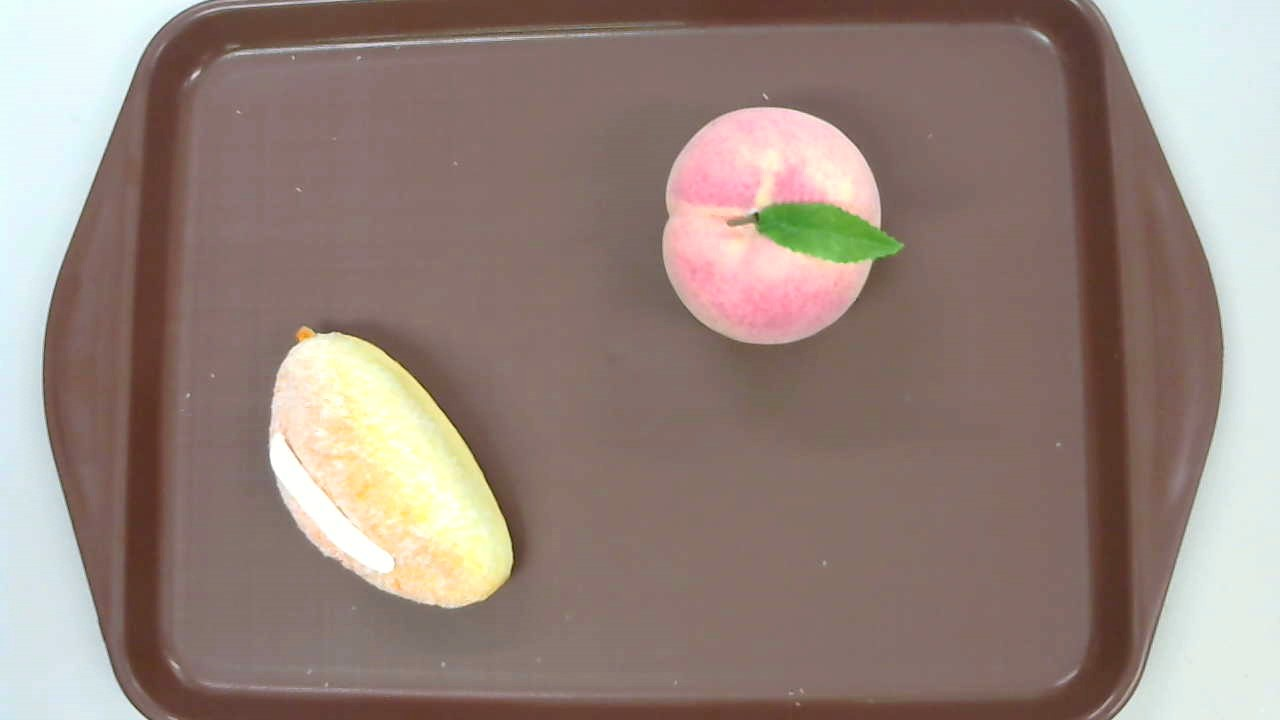coconut: (270, 326, 513, 609)
peach: (662, 106, 902, 345)
